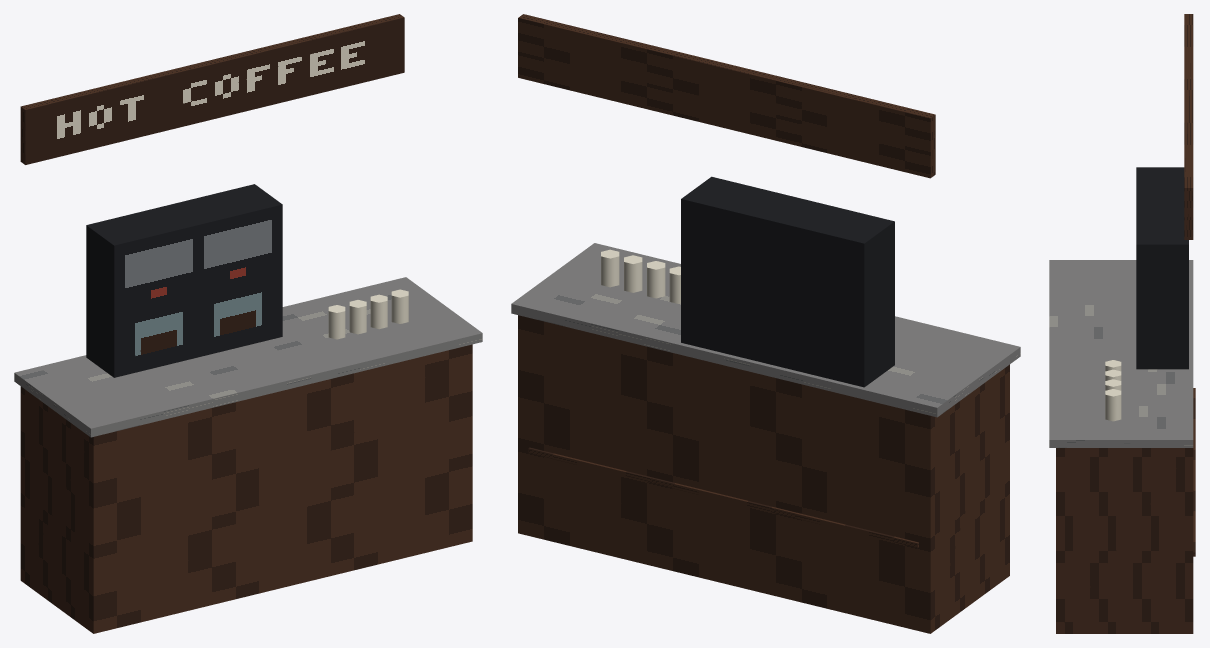
The model's file is COM_CoffeeStation.glb.
3 renders of one model, left to right at view 1: azimuth 30°, elevation 25°; view 2: azimuth 150°, elevation 25°; view 3: azimuth 270°, elevation 25°, orthographic. The views are drawn at different scales.
Parts seen in each view (by area): view 1: COM_CoffeeStation_Mesh; view 2: COM_CoffeeStation_Mesh; view 3: COM_CoffeeStation_Mesh.
Boxes of the visible parts, x1=… form: COM_CoffeeStation_Mesh: x1=14, y1=14, x2=482, y2=633; COM_CoffeeStation_Mesh: x1=511, y1=14, x2=1020, y2=633; COM_CoffeeStation_Mesh: x1=1049, y1=14, x2=1195, y2=633.
Size of what is drawn, in the model's own units: 1.86 by 2.15 by 0.64.
1 material, 1 textured.
